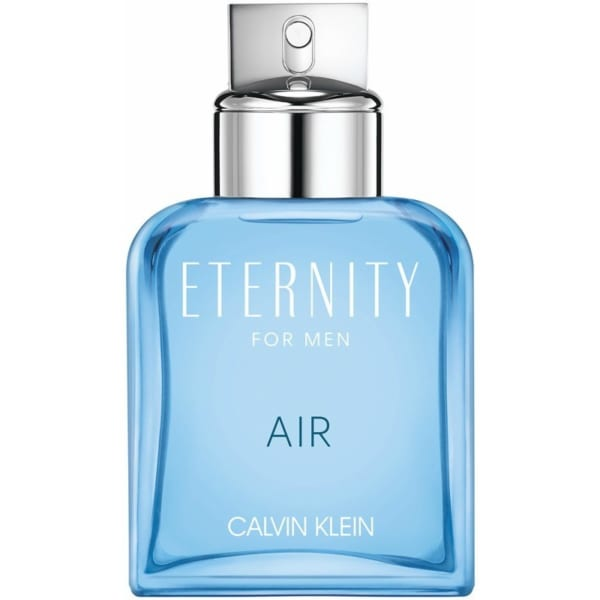Calvin Klein: (206, 505, 389, 543)
